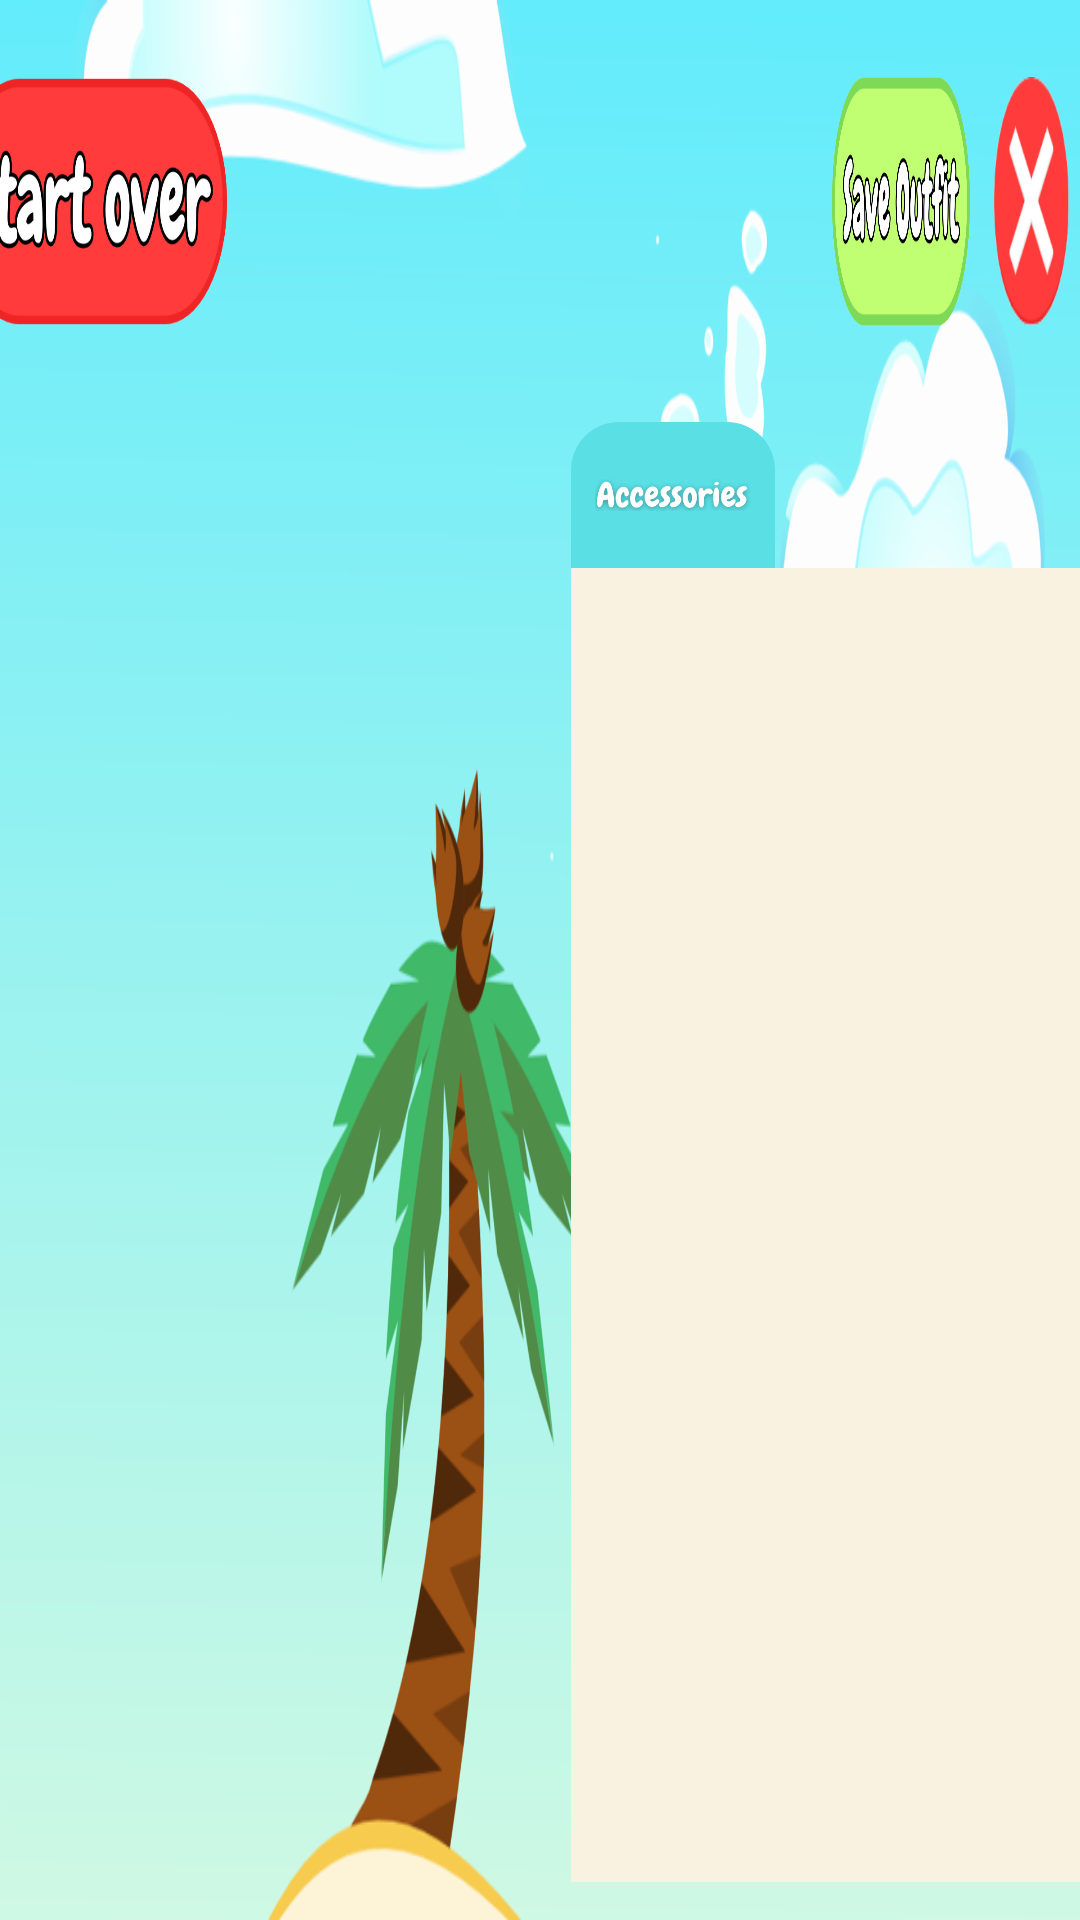

Icons on this 1080x1920 Android screen, each with its box as (x1, y1, x2, y2):
close: (994, 77, 1069, 326)
